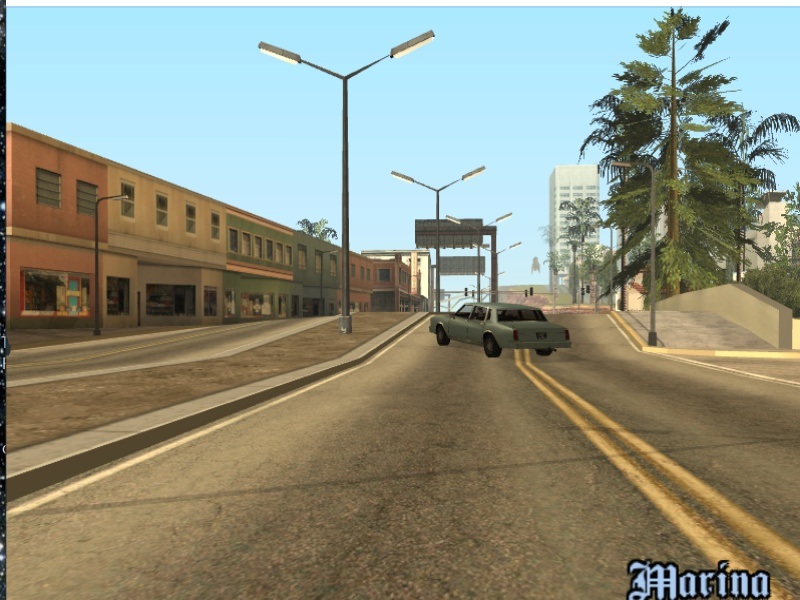pole: (335, 77, 359, 334), (646, 168, 660, 348), (92, 205, 104, 337), (432, 192, 442, 313)
vehicle: (428, 298, 573, 360)
